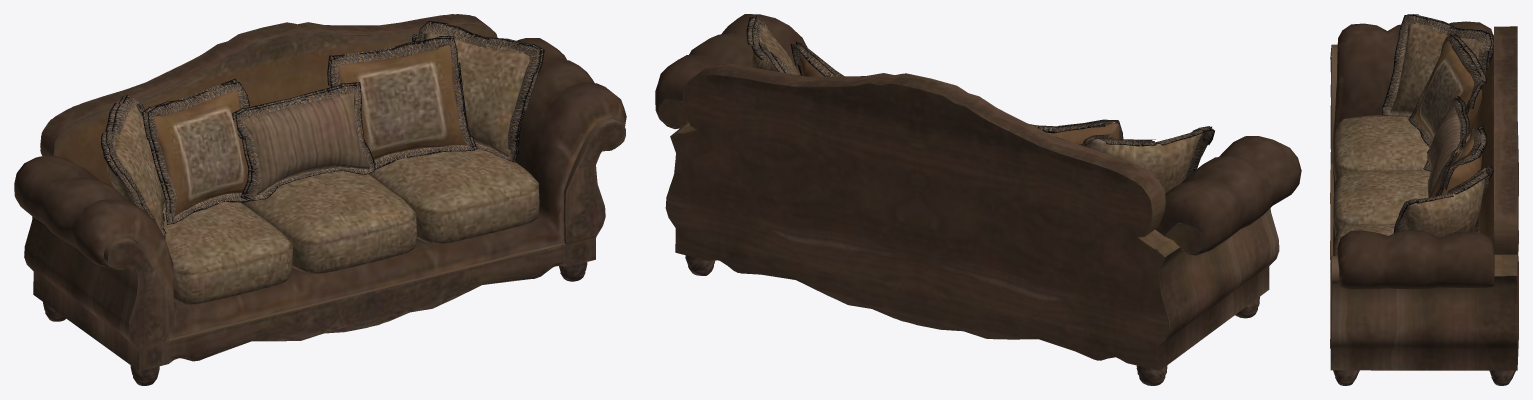
File: sofa_03.glb
3 renders of one model, left to right at view 1: azimuth 30°, elevation 25°; view 2: azimuth 150°, elevation 25°; view 3: azimuth 270°, elevation 25°, orthographic. The views are drawn at different scales.
Visible parts, largest first — view 1: sofa_03; view 2: sofa_03; view 3: sofa_03.
Part boxes in pixels (x1=…): sofa_03: x1=14, y1=14, x2=626, y2=385; sofa_03: x1=655, y1=14, x2=1301, y2=385; sofa_03: x1=1330, y1=14, x2=1518, y2=385.
Bounding box in the file's own units: 2.73 × 1.12 × 0.9252.
Materials: 2 (2 with a texture image).
